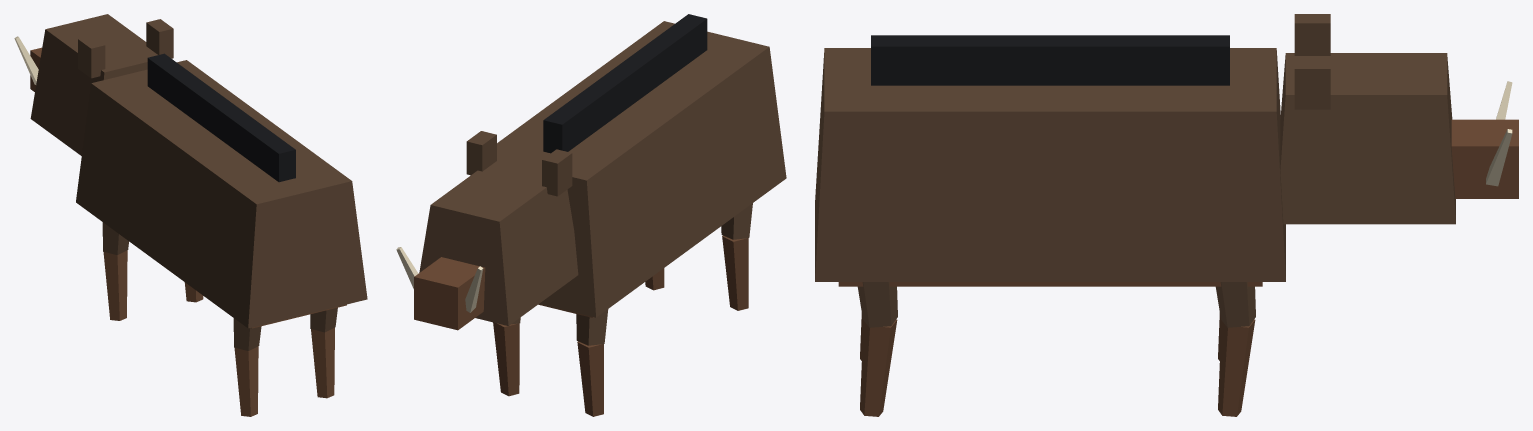
File: ani_boar.glb
3 renders of one model, left to right at view 1: azimuth 30°, elevation 25°; view 2: azimuth 150°, elevation 25°; view 3: azimuth 270°, elevation 25°, orthographic. The views are drawn at different scales.
Visible parts, largest first — view 1: ani_boar, ani_boar_head, ani_boar_leg_rl, ani_boar_leg_fl, ani_boar_leg_rr; view 2: ani_boar, ani_boar_head, ani_boar_leg_fl, ani_boar_leg_rl, ani_boar_leg_fr; view 3: ani_boar, ani_boar_head, ani_boar_leg_rr, ani_boar_leg_fr.
Boxes of the visible parts, x1=… form: ani_boar: x1=76, y1=53, x2=367, y2=328; ani_boar_head: x1=14, y1=14, x2=173, y2=155; ani_boar_leg_rl: x1=233, y1=318, x2=261, y2=416; ani_boar_leg_fl: x1=102, y1=222, x2=128, y2=320; ani_boar_leg_rr: x1=310, y1=307, x2=337, y2=398; ani_boar: x1=497, y1=14, x2=786, y2=317; ani_boar_head: x1=396, y1=131, x2=578, y2=330; ani_boar_leg_fl: x1=576, y1=309, x2=608, y2=416; ani_boar_leg_rl: x1=721, y1=203, x2=752, y2=310; ani_boar_leg_fr: x1=493, y1=317, x2=520, y2=396; ani_boar: x1=815, y1=35, x2=1285, y2=286; ani_boar_head: x1=1280, y1=14, x2=1518, y2=224; ani_boar_leg_rr: x1=857, y1=282, x2=897, y2=416; ani_boar_leg_fr: x1=1215, y1=282, x2=1255, y2=416.
Bounding box in the file's own units: 0.42 × 0.8523 × 1.57.
